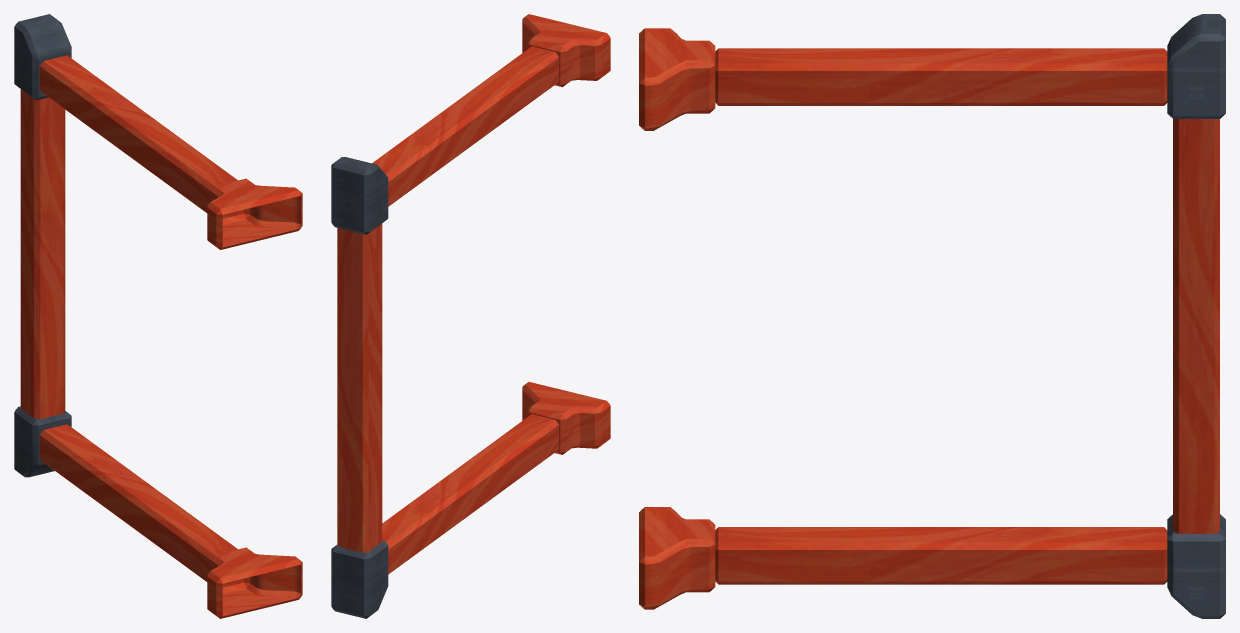
File: Torii.FBX
3 views of the same model, side by side, from view 1: azimuth 30°, elevation 25°; view 2: azimuth 150°, elevation 25°; view 3: azimuth 270°, elevation 25° (orthographic). The views are drawn at different scales.
Visible parts, largest first — view 1: Gong__WoodCommon04_DY, Gong__Metal00_Black_DY; view 2: Gong__WoodCommon04_DY, Gong__Metal00_Black_DY; view 3: Gong__WoodCommon04_DY, Gong__Metal00_Black_DY.
Boxes of the visible parts, x1,y1,x2,y2 form: Gong__WoodCommon04_DY: [20, 55, 302, 618]; Gong__Metal00_Black_DY: [14, 14, 71, 477]; Gong__WoodCommon04_DY: [337, 14, 610, 574]; Gong__Metal00_Black_DY: [331, 157, 388, 618]; Gong__WoodCommon04_DY: [639, 28, 1219, 609]; Gong__Metal00_Black_DY: [1167, 14, 1225, 618].
Size of the model in its own units: 110 by 550 by 500.
